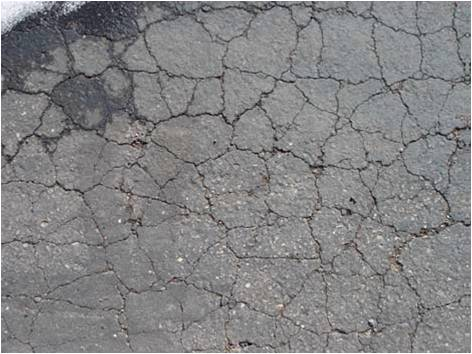Retak Buaya: (1, 1, 472, 354)
